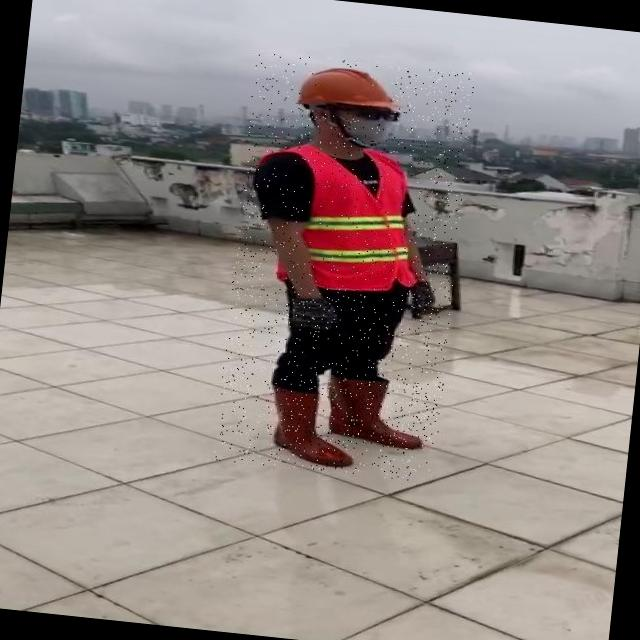boots: (260, 374, 364, 472), (327, 371, 444, 452)
helmet: (292, 61, 397, 118)
vest: (259, 142, 426, 298)
